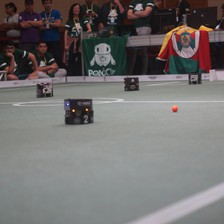ball: (170, 103, 179, 113)
goal: (207, 67, 224, 82)
robot: (62, 96, 95, 126), (35, 79, 54, 99), (122, 74, 141, 92), (186, 69, 202, 85)
